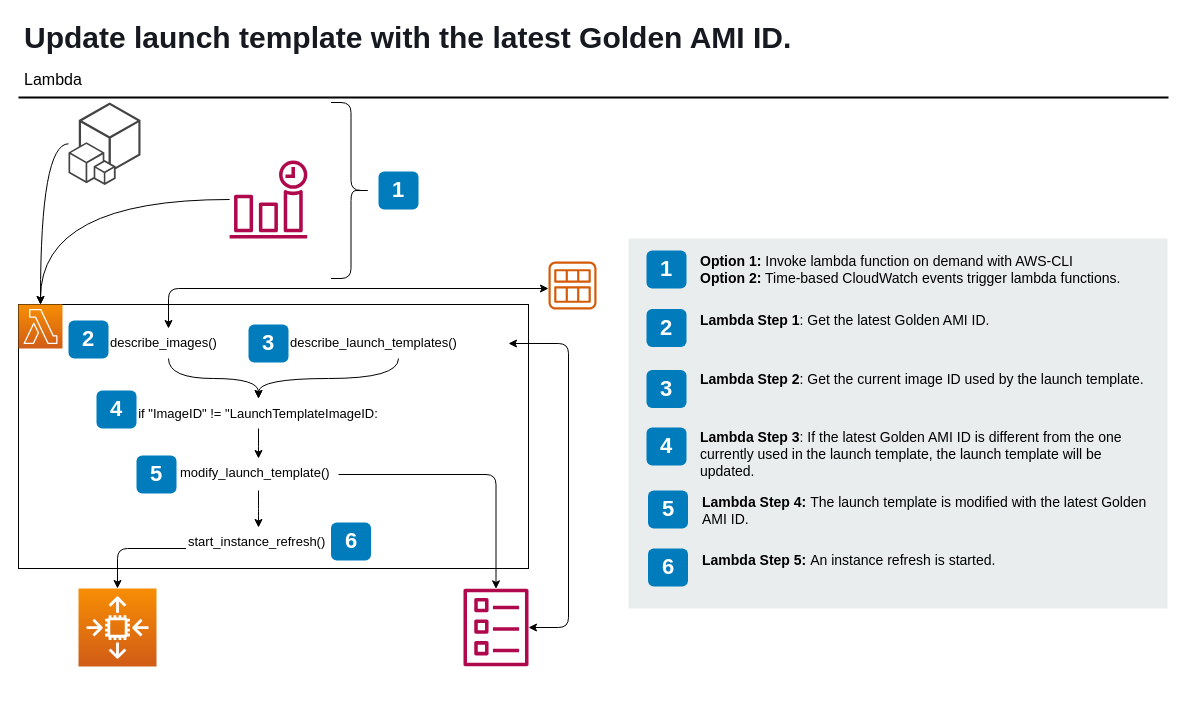
Some shapes in this 1186 by 704 pixel diagram are drawn without their labels. Each missing label, with the centre of its shape:
AMI: the point at 572,285
Auto Scaling Group: the point at 117,627
AWS CLI: the point at 104,143
CloudWatch (Time-Based Event): the point at 268,199
Launch Template: the point at 495,627
